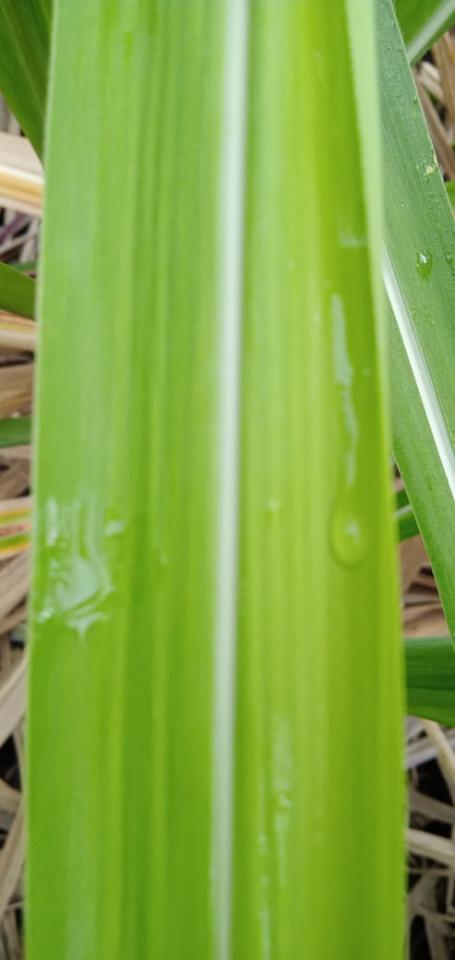Healthy: (26, 1, 410, 959), (375, 0, 454, 654), (0, 0, 53, 169), (403, 637, 454, 728), (388, 0, 454, 70), (0, 259, 37, 321), (393, 487, 420, 542), (0, 418, 33, 449)
